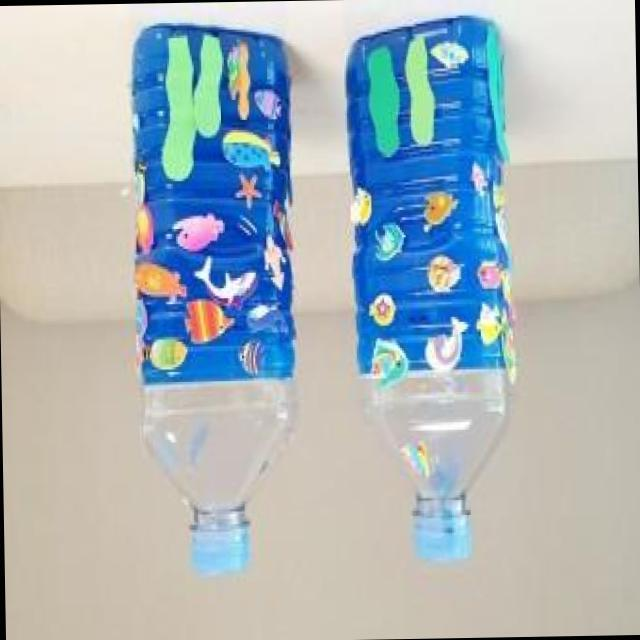good: (112, 9, 310, 598), (333, 0, 527, 571)
